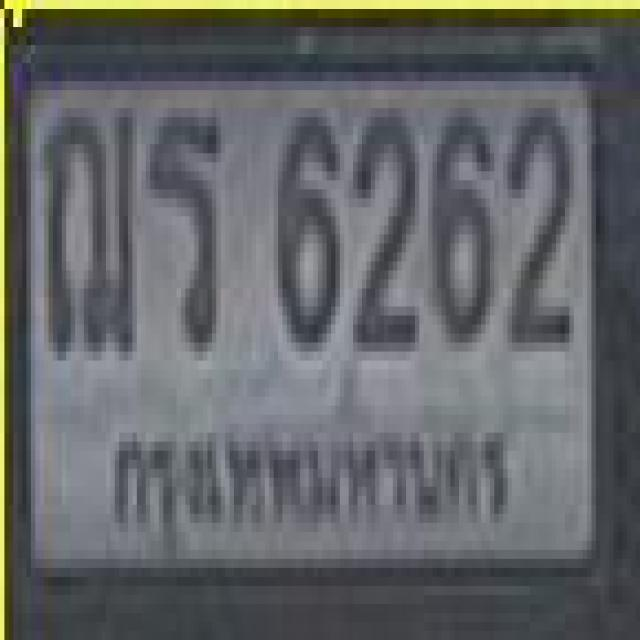license_plate: (11, 36, 624, 614)
